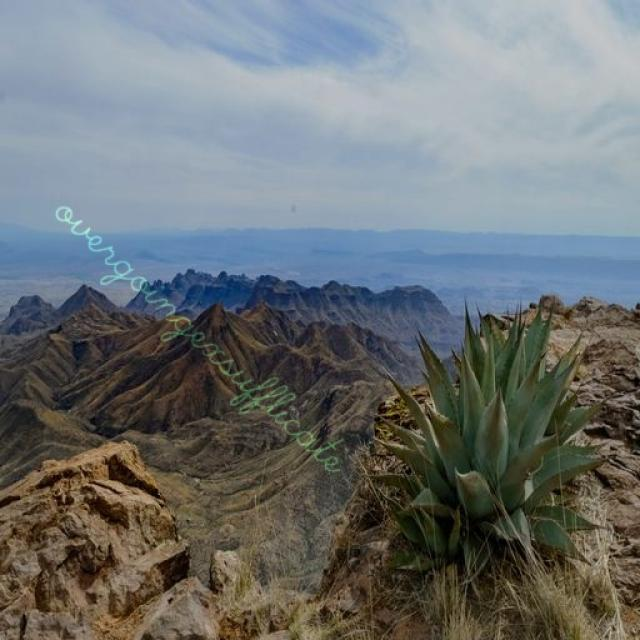watermark: (42, 179, 367, 484)
